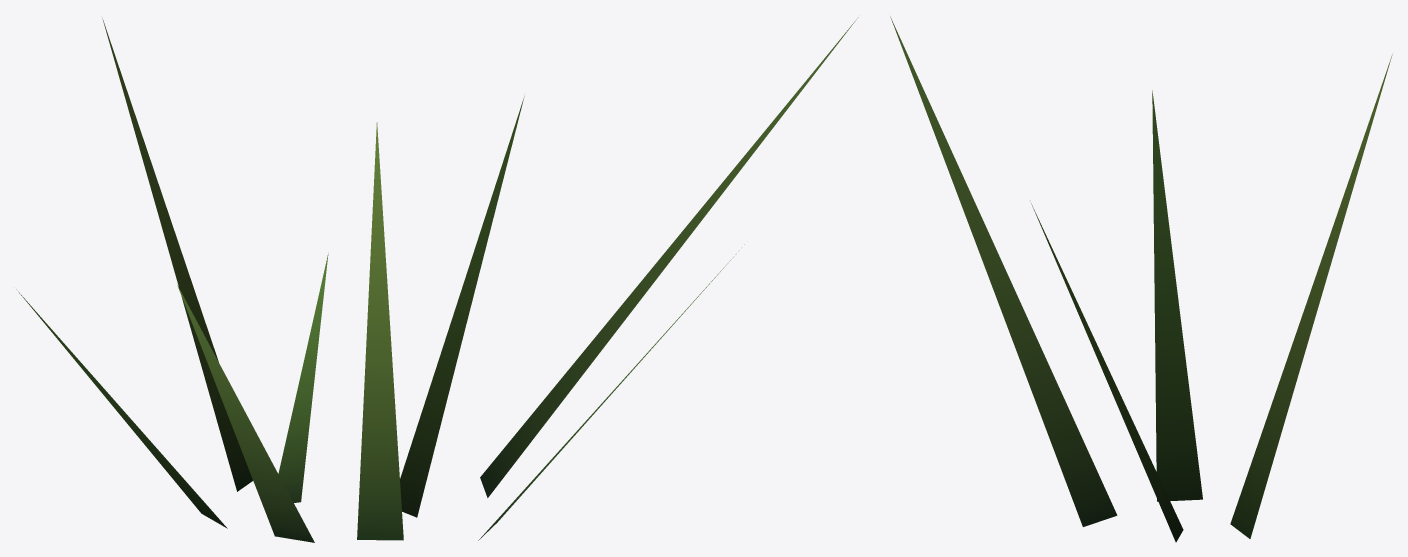
File: grass-broad-b.lod2.glb
3 views of the same model, side by side, from view 1: azimuth 30°, elevation 25°; view 2: azimuth 150°, elevation 25°; view 3: azimuth 270°, elevation 25° (orthographic). The views are drawn at different scales.
Bounding box in the file's own units: 0.6365 × 0.8842 × 0.9072.
